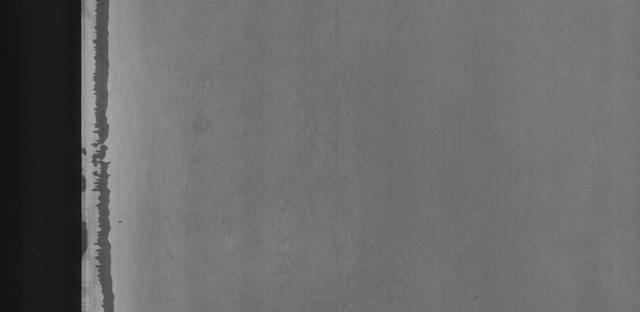oil_spot: (89, 0, 144, 308)
